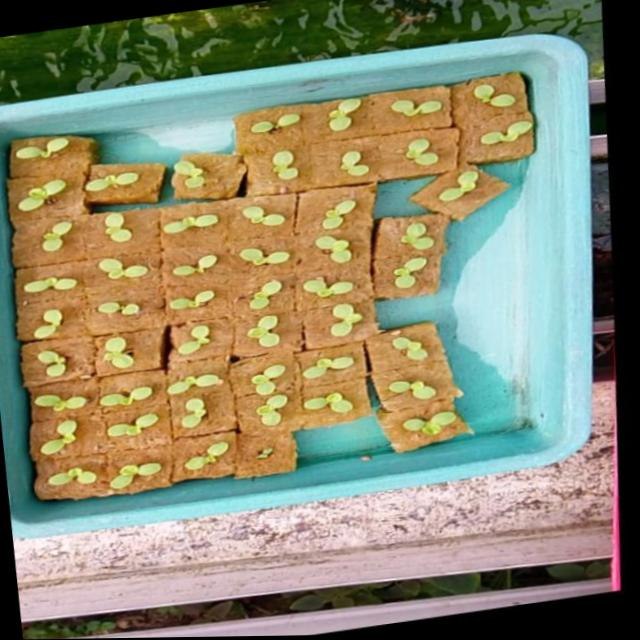Baby: (428, 166, 483, 210), (33, 213, 93, 252), (464, 78, 528, 111), (460, 110, 512, 144), (307, 268, 355, 300), (299, 352, 353, 379), (316, 234, 370, 261), (92, 300, 152, 324), (171, 323, 215, 355), (26, 349, 66, 384), (109, 461, 160, 488), (402, 406, 455, 431), (183, 439, 228, 468), (392, 96, 452, 117), (165, 372, 222, 394), (31, 393, 89, 414), (402, 214, 437, 248), (40, 419, 74, 453), (171, 252, 220, 275), (98, 385, 151, 405), (329, 301, 361, 334), (330, 98, 362, 131), (250, 362, 284, 393), (323, 197, 357, 228), (100, 257, 150, 278), (102, 336, 134, 368), (255, 390, 286, 422), (246, 313, 278, 344), (250, 278, 283, 308), (171, 288, 216, 309), (49, 465, 97, 484), (304, 393, 352, 412), (240, 246, 290, 264), (387, 376, 434, 395), (404, 138, 436, 165), (25, 275, 78, 291), (36, 309, 65, 338), (391, 333, 426, 357), (393, 262, 427, 286), (105, 212, 133, 241), (273, 149, 299, 178), (180, 397, 205, 427), (107, 418, 147, 435), (342, 149, 369, 174), (246, 205, 277, 224)
